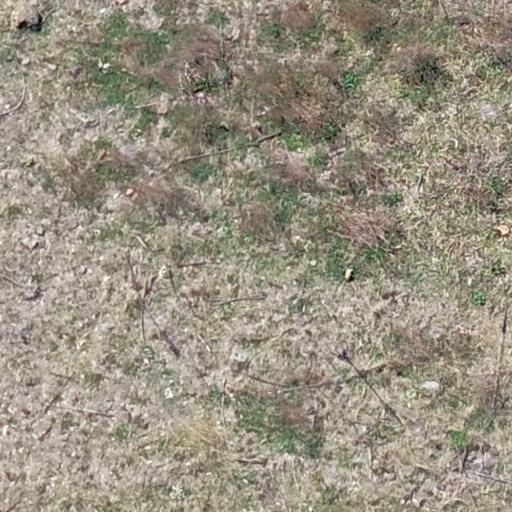stone: (4, 4, 45, 29), (21, 236, 39, 250), (342, 266, 356, 281), (96, 148, 108, 161), (34, 224, 44, 236), (20, 57, 33, 64), (381, 474, 396, 480), (79, 264, 87, 275), (126, 187, 134, 196)
